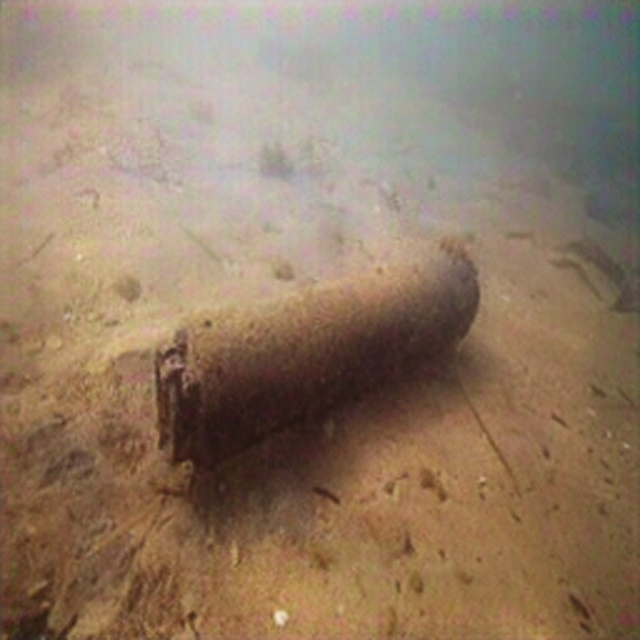mine: (152, 237, 482, 478)
